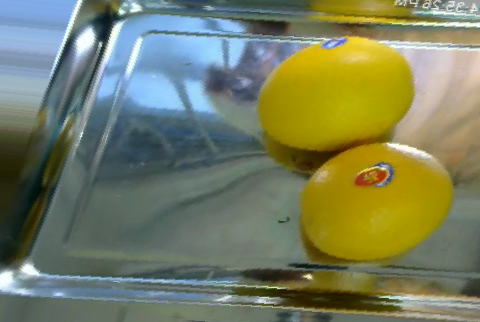Orange: (298, 141, 454, 260), (256, 35, 415, 150)
